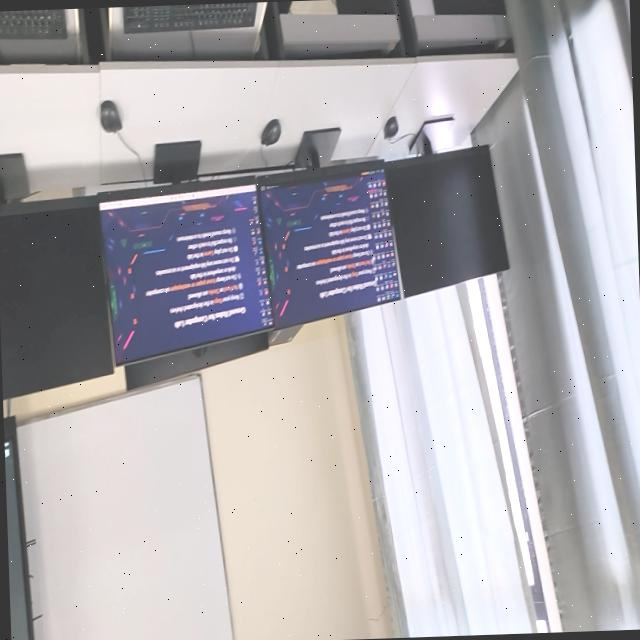Cpu: (268, 325, 303, 346)
Digital board: (3, 415, 34, 640)
Keyboard: (123, 2, 257, 33), (0, 9, 66, 39)
Monitor: (99, 140, 272, 364), (257, 128, 401, 325), (0, 154, 115, 399), (384, 116, 508, 297), (124, 332, 269, 391)
Mouse: (100, 100, 121, 133), (261, 119, 281, 146), (383, 116, 398, 140)
